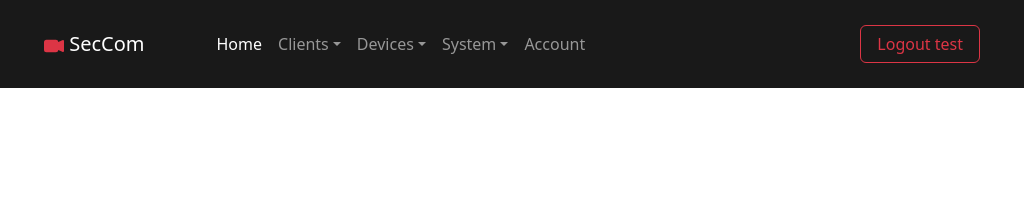
Scenario: <SecComNavbar /> › it should have the history link
Click the button "System".
click(475, 44)  # box [434,24,516,64]
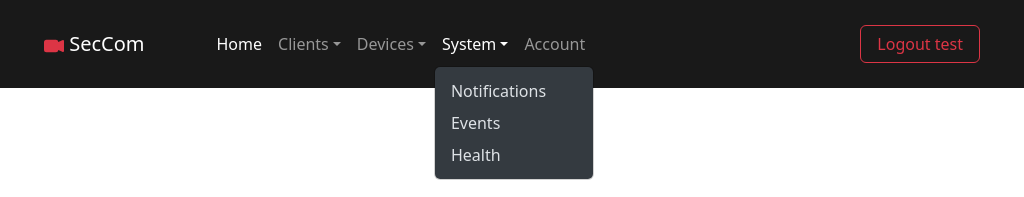
Check: the link "Events" is shown, box [451,112,500,134]
